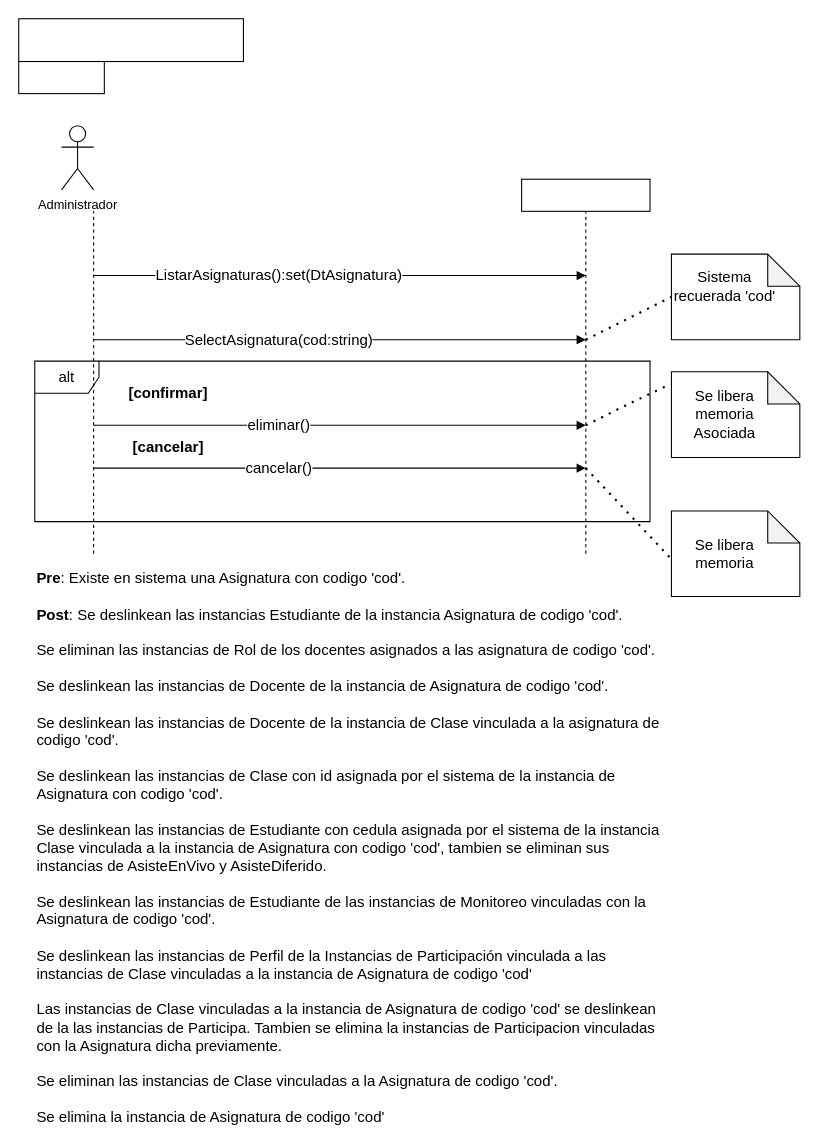
The diagram is 819 pixels wide and 1145 high, and some of its shapes have lost their labels. The box of each missing label's shape, as (x1, y1, x2, y2) in pixels:
:Sistema: (521, 178, 650, 211)
Con memoria: (18, 60, 104, 94)
Eliminación de la asignatura: (18, 18, 243, 62)
